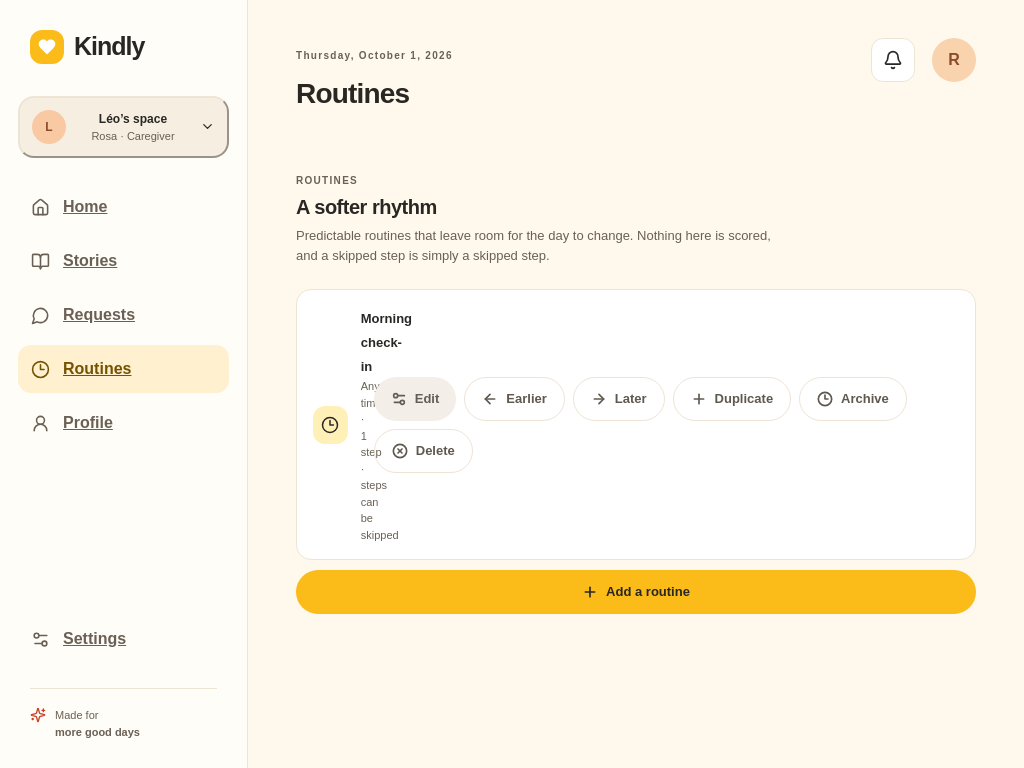
Scenario: destructive actions explain themselves › says what deleting a routine actually does
The image size is (1024, 768).
Check: the heading "A softer rhythm" is shown, box [296,196,437,218]
Click the button "Delete" at point(423, 450), box [374,428,473,472]
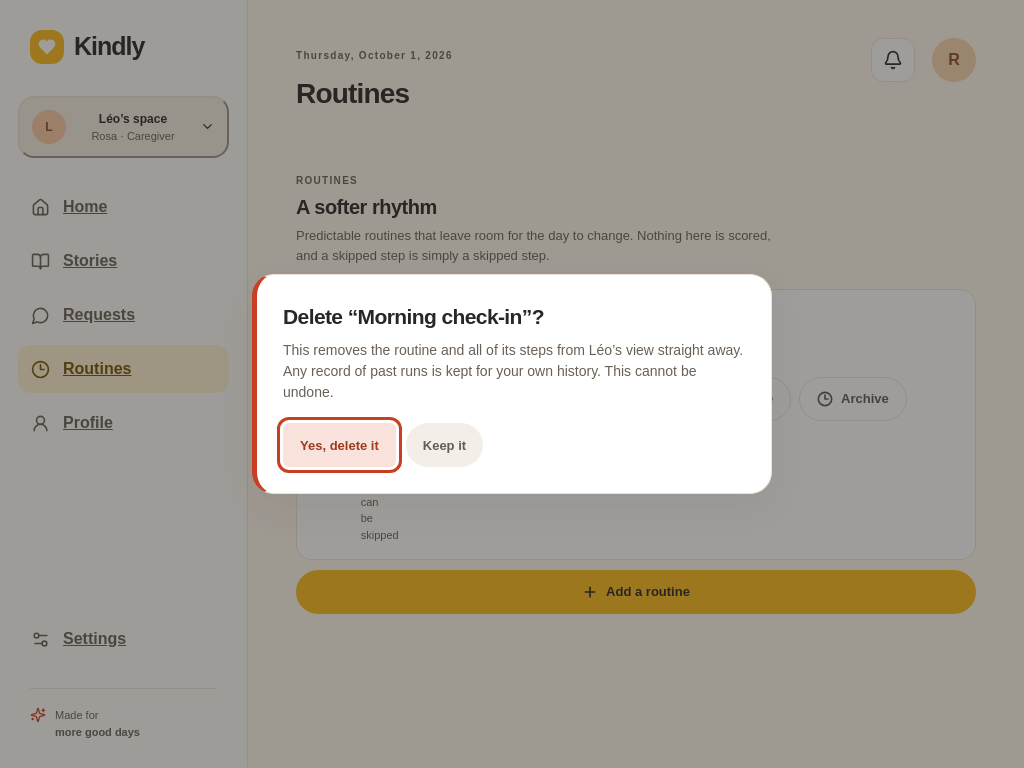
Check: the text "cannot be undone" is shown, box [283,342,743,400]
